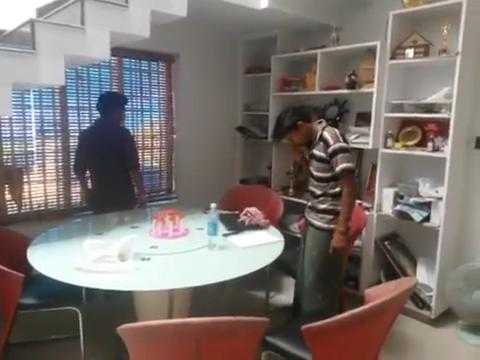chair: (260, 276, 419, 359), (1, 227, 86, 359), (267, 204, 367, 312), (218, 184, 284, 304), (115, 315, 271, 359)
closet_cabinet: (237, 1, 479, 319)
cup_glass_bottle: (148, 209, 189, 239)
floor: (1, 262, 480, 360), (1, 1, 187, 115)
paper_notebook: (217, 213, 284, 248)
person: (270, 105, 357, 316), (73, 90, 147, 214)
table_desk: (26, 205, 285, 321)
towel_s: (236, 206, 270, 227)
window: (1, 55, 172, 215)
